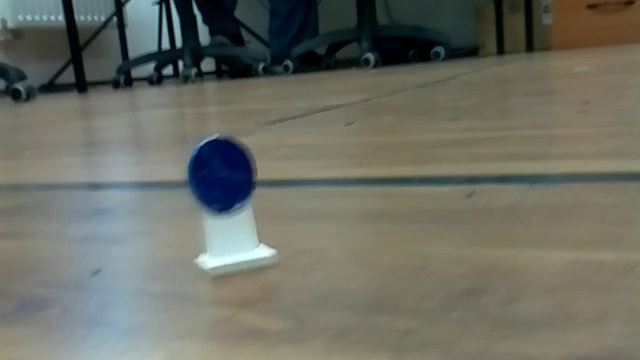circle: (156, 131, 303, 282)
